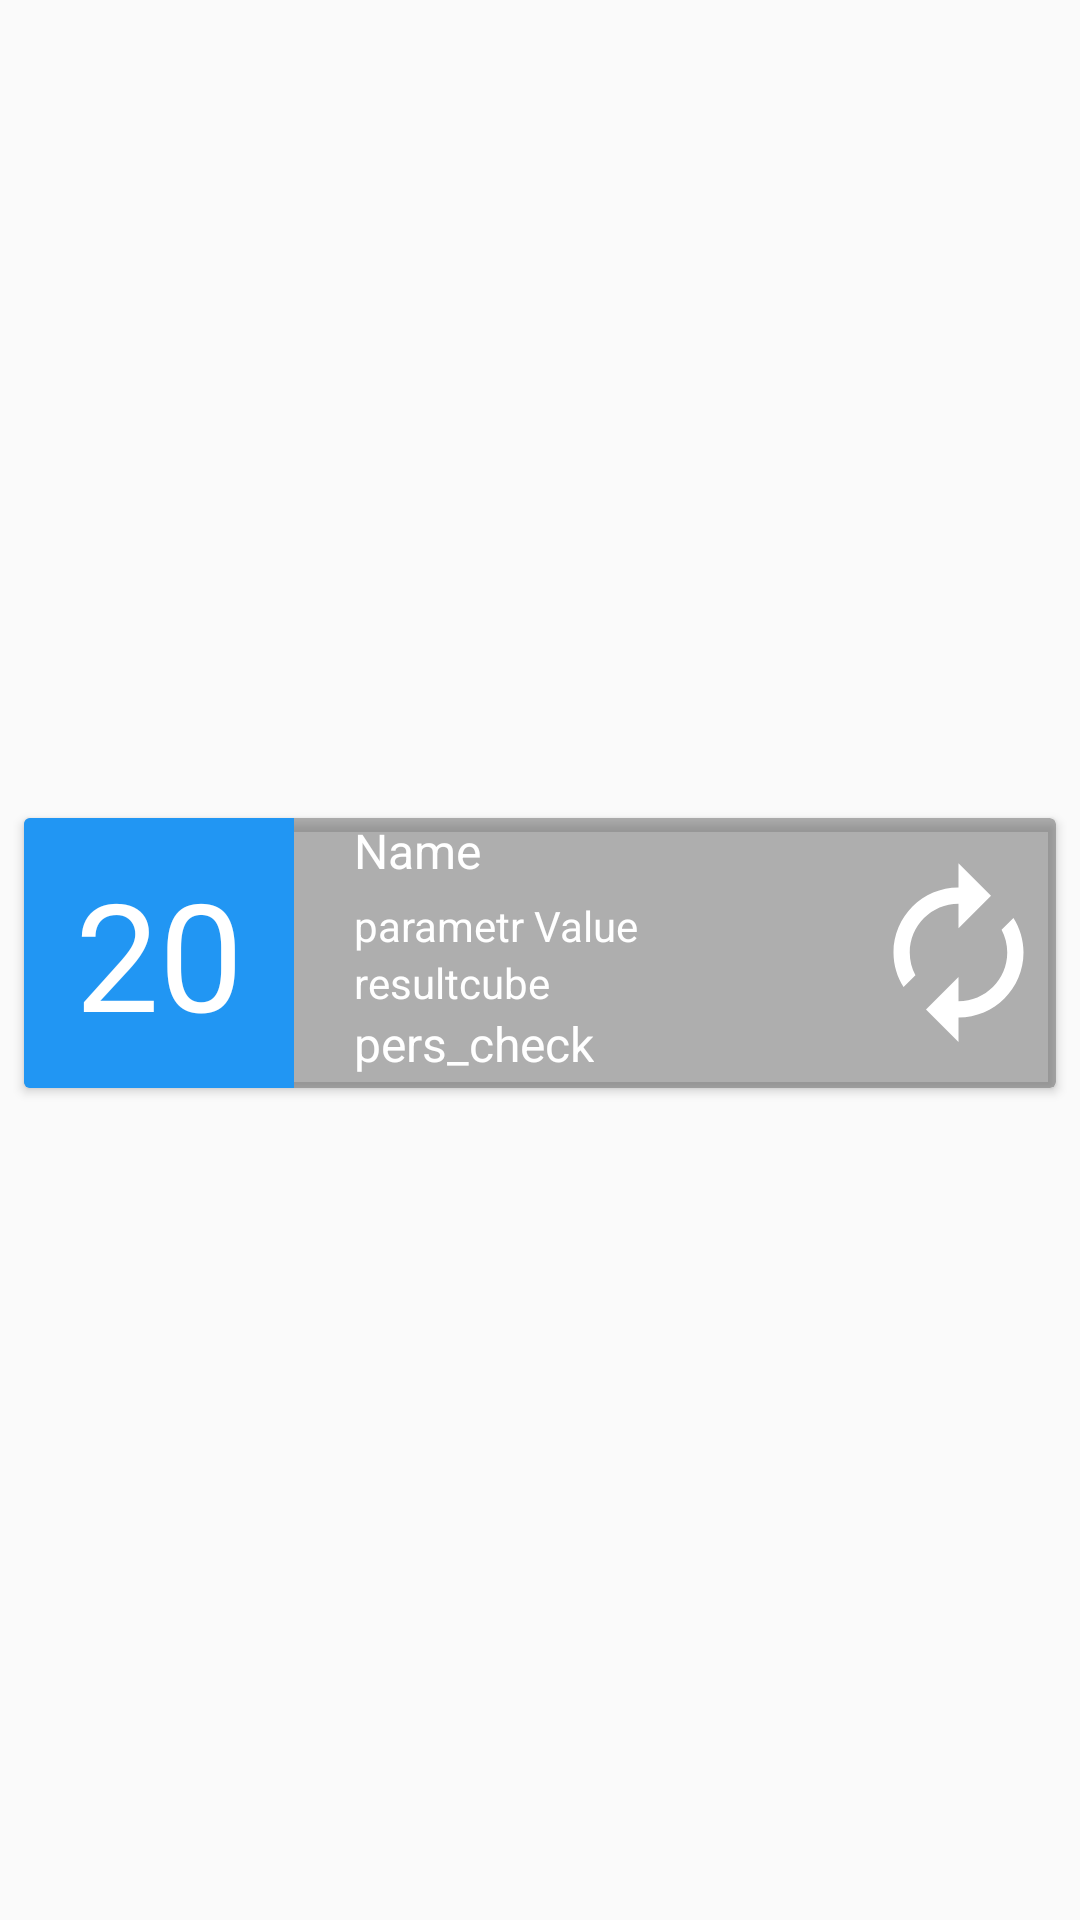

Named icons in this screenshot (1080x1920) and their bounding boxes, (x1, y1, x2, y2):
reroll item: (893, 864, 1024, 1042)
